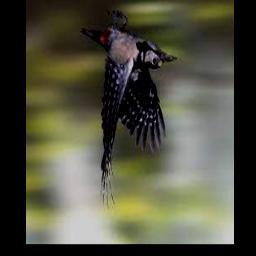Woodpecker: (80, 12, 177, 209)
